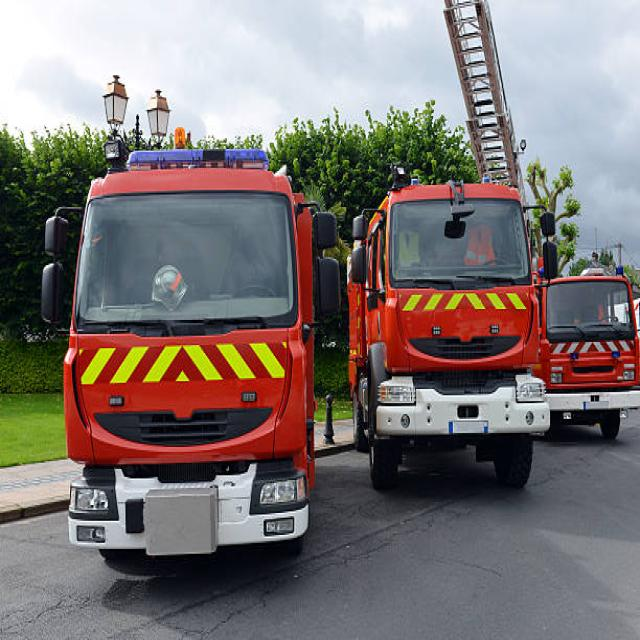emergency: (41, 150, 339, 558), (349, 0, 551, 488), (535, 268, 640, 440)
